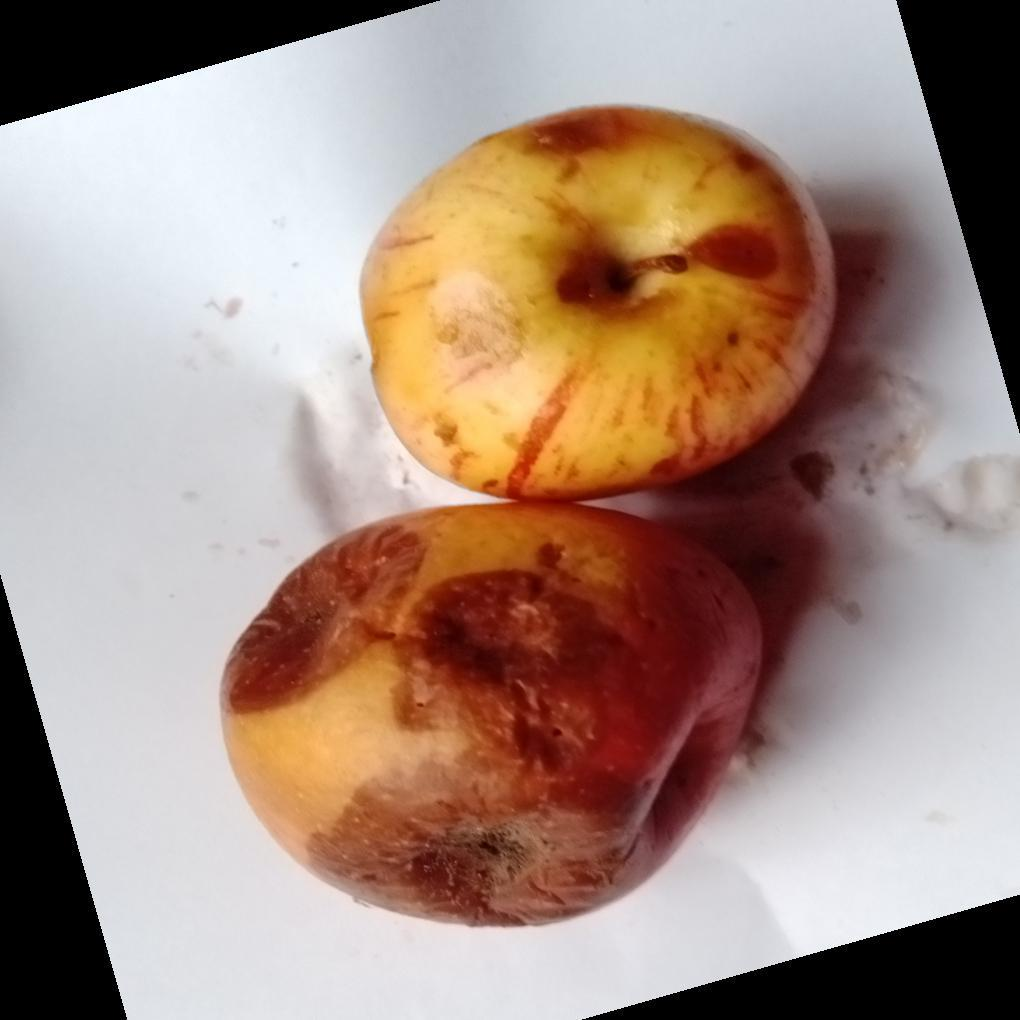FreshOrange: (216, 107, 838, 933)
